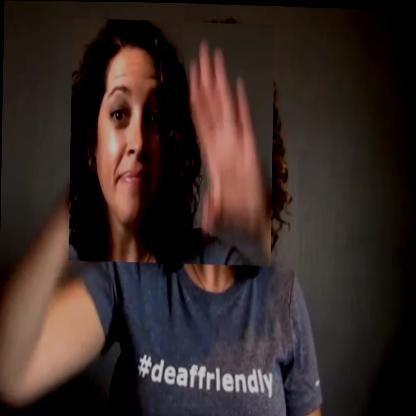Hello: (68, 18, 274, 266)
